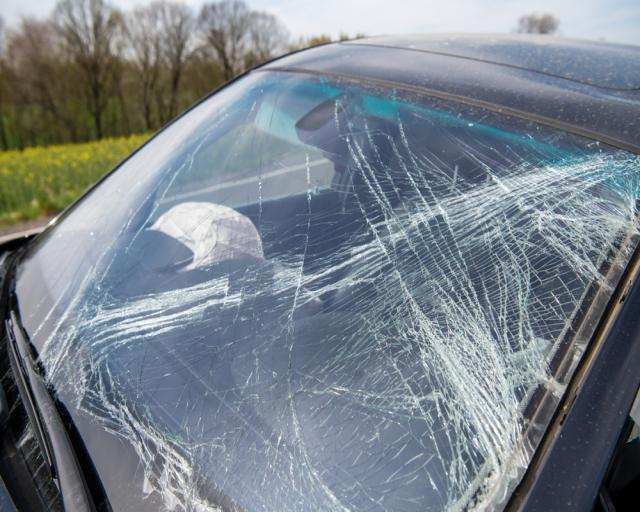glass shatter: (0, 70, 640, 512)
